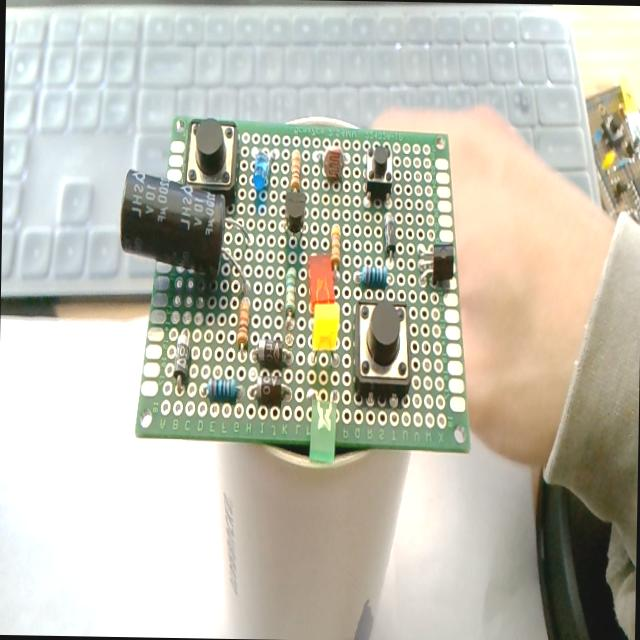Electrolytic capacitor: (114, 160, 253, 304)
diode: (246, 372, 294, 413), (249, 334, 296, 374), (169, 324, 194, 398), (380, 206, 398, 268)
led: (308, 301, 345, 380), (306, 382, 340, 466), (308, 252, 338, 321), (246, 147, 276, 197)
resistor: (200, 372, 252, 410), (233, 290, 256, 360), (352, 262, 396, 296), (281, 256, 300, 333), (326, 218, 346, 282), (288, 139, 306, 200)
switch: (352, 297, 412, 408), (182, 112, 240, 214), (359, 136, 398, 212)
transistor: (414, 230, 458, 306), (279, 185, 308, 246)
